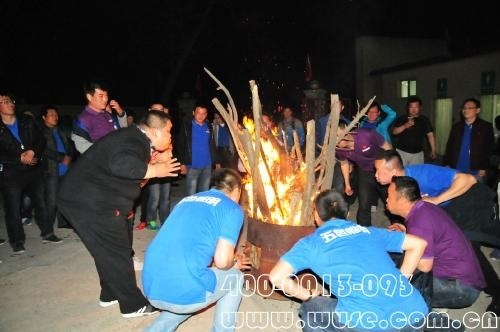fire: (237, 115, 304, 225)
